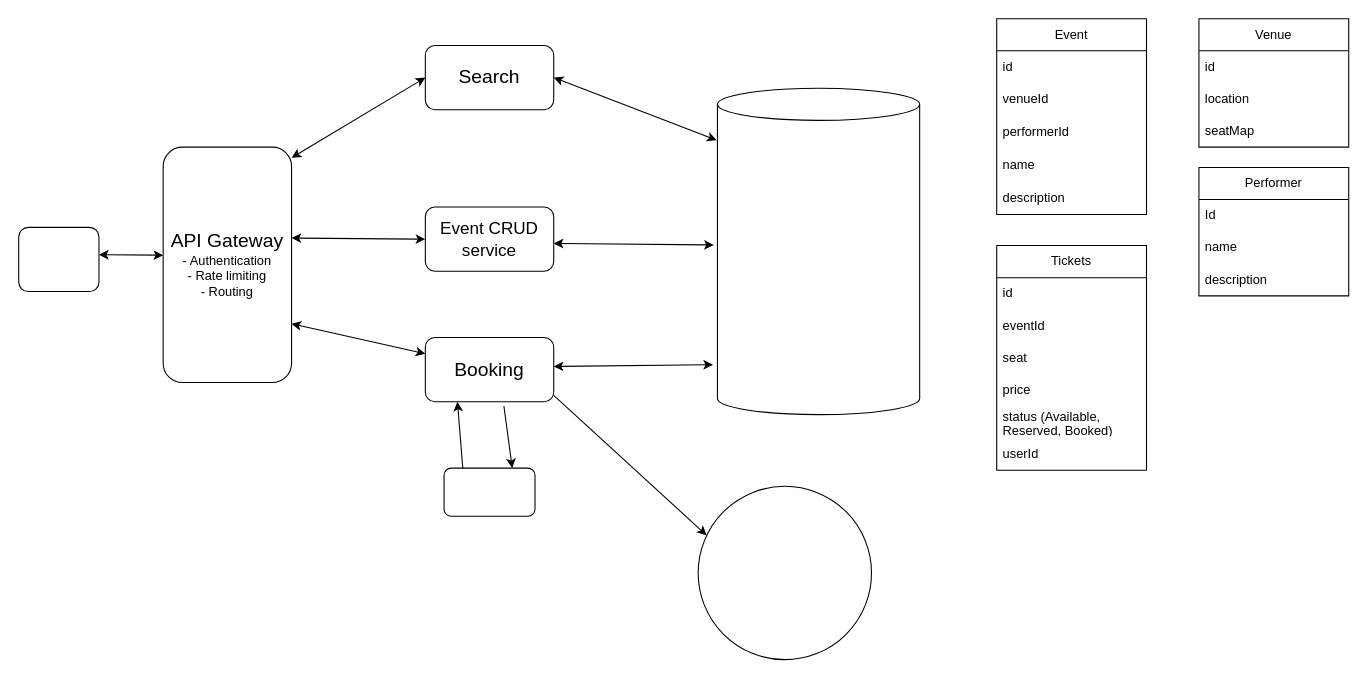
This 1367x678 diagram has some shape labels left out. Each missing label, with the centre of its shape:
"Client" goes at (58,259).
"Database (MySQL)" goes at (818,251).
"Stripe" goes at (489,491).
"Ticket Lock Redis (ticketId - true) (ttl:10)" goes at (784,572).
